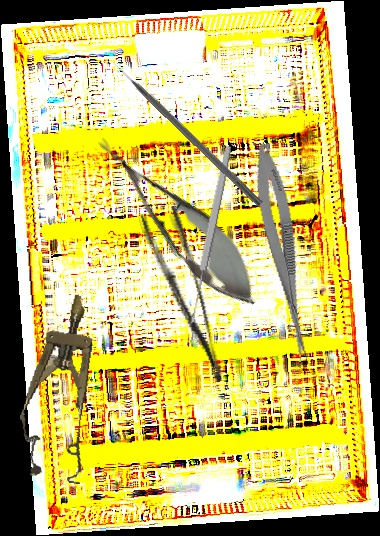Dressing Forceps: (137, 204, 227, 391)
Hook Surgical: (110, 58, 265, 207)
Micro Scissor: (80, 120, 276, 322), (245, 141, 324, 368)
Speculum: (10, 289, 115, 485)
Surgical Spoon: (186, 144, 234, 326)
